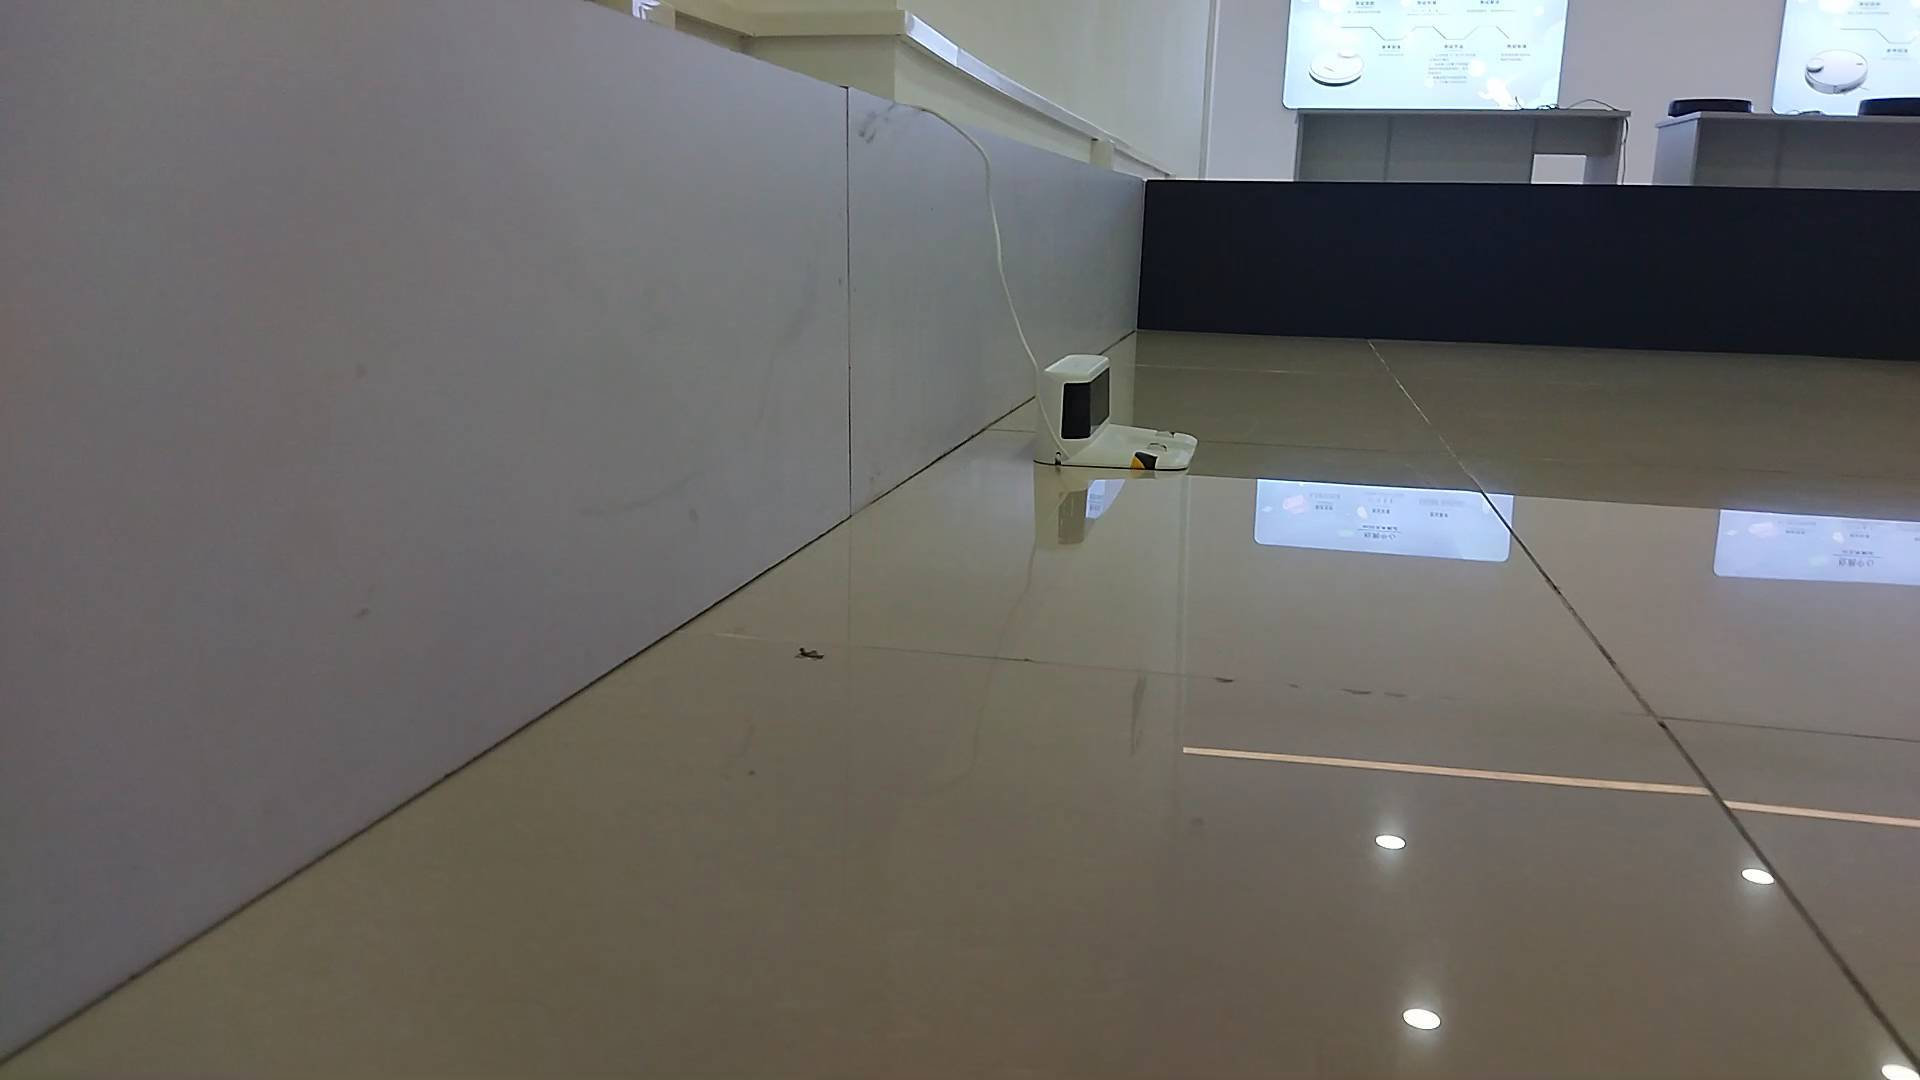recharge seat: (1034, 353, 1197, 471)
